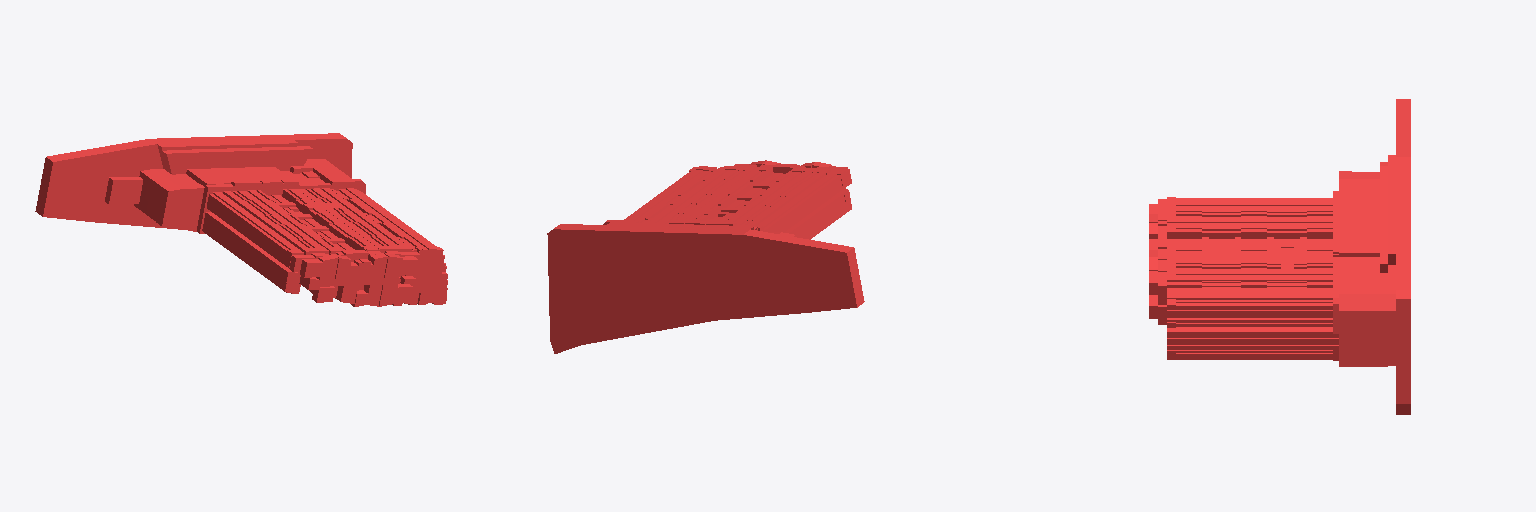
The model's file is BagunanBesar.obj.
3 renders of one model, left to right at view 1: azimuth 30°, elevation 25°; view 2: azimuth 150°, elevation 25°; view 3: azimuth 270°, elevation 25°, orthographic.
Parts seen in each view (by area): view 1: Group_1; view 2: Group_1; view 3: Group_1.
Part boxes in pixels (left/top/right/bottom): Group_1: left=35, top=133, right=447, bottom=306; Group_1: left=547, top=160, right=864, bottom=353; Group_1: left=1149, top=99, right=1410, bottom=414.
Size of the model in its own units: 203 by 108 by 149.